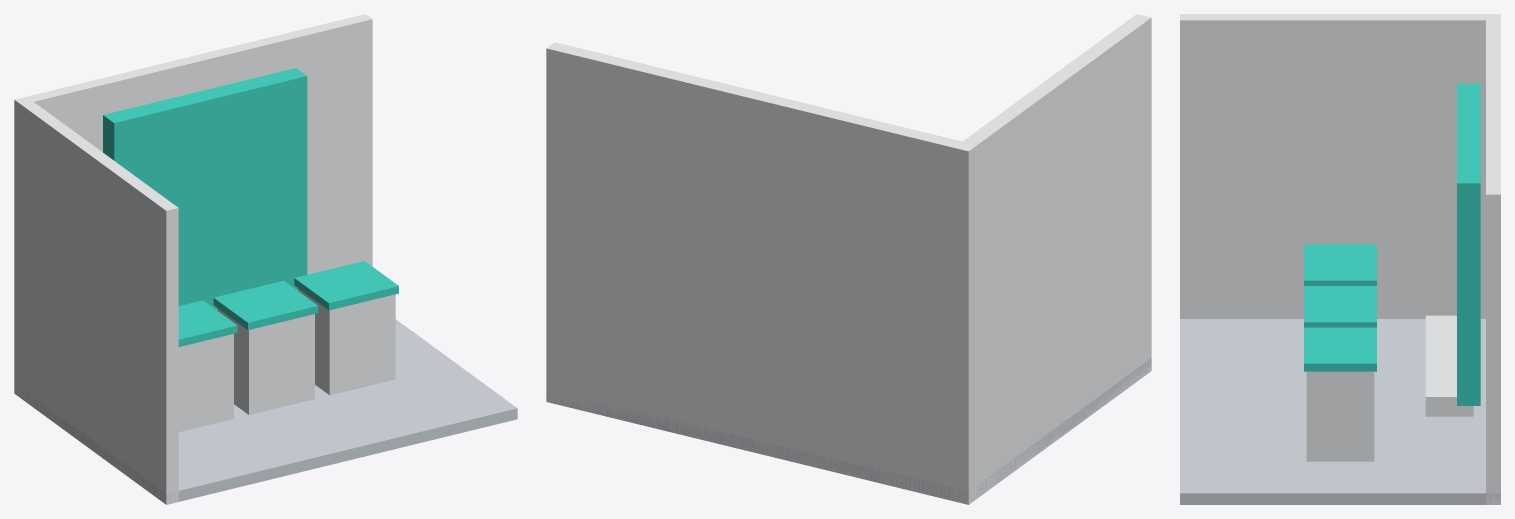
3 views of the same model, side by side, from view 1: azimuth 30°, elevation 25°; view 2: azimuth 150°, elevation 25°; view 3: azimuth 270°, elevation 25° (orthographic). The views are drawn at different scales.
Visible parts, largest first — view 1: Exhibition Booth Concept; view 2: Exhibition Booth Concept; view 3: Exhibition Booth Concept.
Boxes of the visible parts, x1,y1,x2,y2 form: Exhibition Booth Concept: [14, 14, 517, 504]; Exhibition Booth Concept: [546, 14, 1151, 504]; Exhibition Booth Concept: [1180, 14, 1500, 504].
Size of the model in its own units: 4 by 3.2 by 3.
